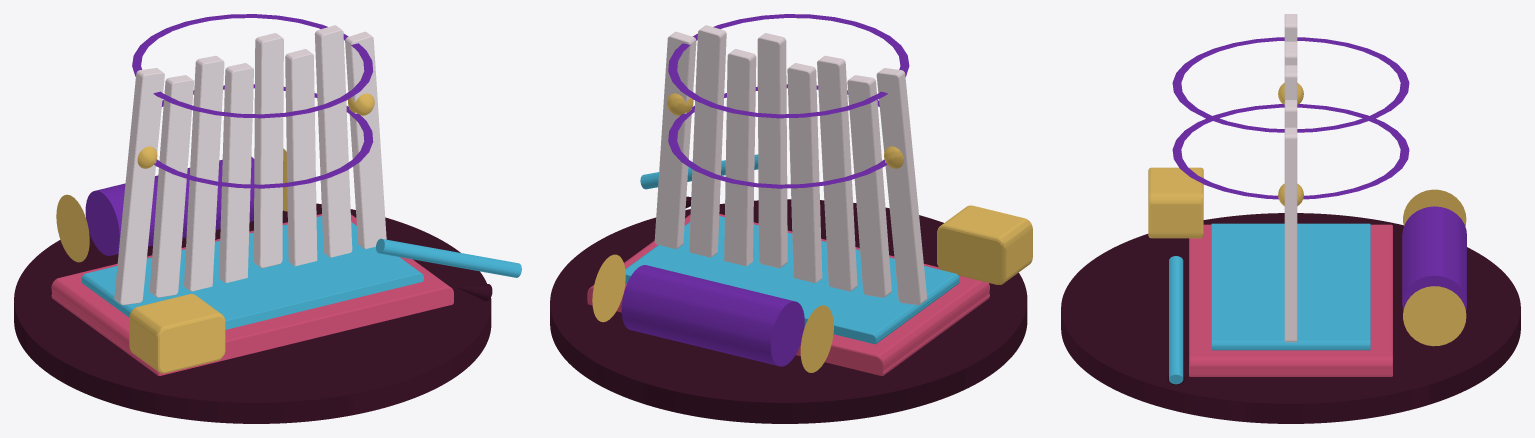
Rendered from 0922_秦汉图鉴_《仪礼》简.glb.
The picture shows the model from 3 angles, left to right: view 1: azimuth 30°, elevation 25°; view 2: azimuth 150°, elevation 25°; view 3: azimuth 270°, elevation 25°; orthographic projection. The views are drawn at different scales.
Parts seen in each view (by area): view 1: card_0922; view 2: card_0922; view 3: card_0922.
Boxes of the visible parts, bbox=[...] form: card_0922: bbox=[14, 14, 521, 423]; card_0922: bbox=[550, 14, 1032, 423]; card_0922: bbox=[1061, 14, 1520, 423].
Bounding box in the file's own units: 1.54 × 1 × 1.56.
